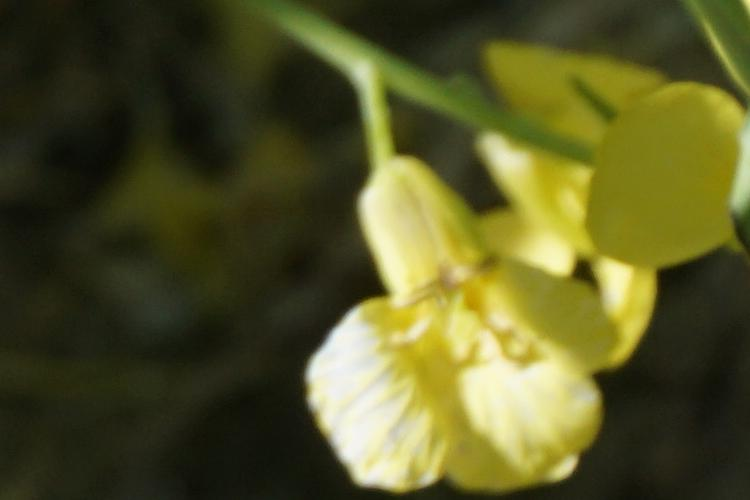yellow: (294, 152, 663, 477)
